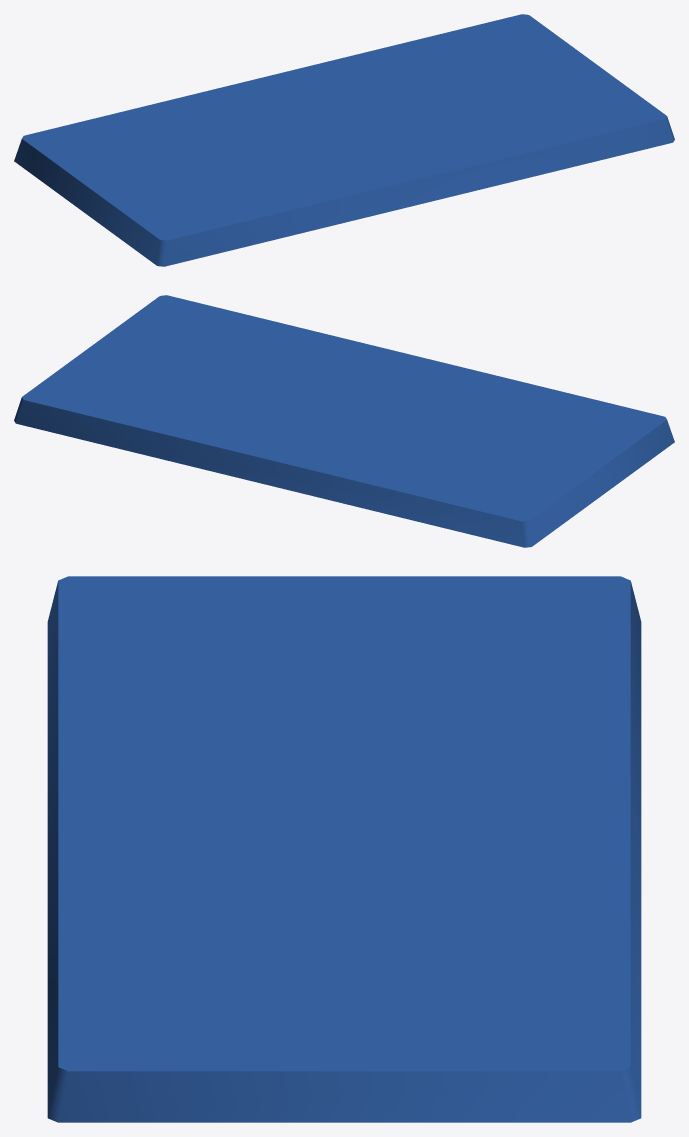
The model's file is mcp_sewer_grate_01_LOD_0.FBX.
The picture shows the model from 3 angles, top to bottom: view 1: azimuth 30°, elevation 25°; view 2: azimuth 150°, elevation 25°; view 3: azimuth 270°, elevation 25°; orthographic projection. The views are drawn at different scales.
Visible parts, largest first — view 1: mcp_sewer_grate_01; view 2: mcp_sewer_grate_01; view 3: mcp_sewer_grate_01.
Boxes of the visible parts, left/top/right/bottom form: mcp_sewer_grate_01: left=14, top=14, right=674, bottom=266; mcp_sewer_grate_01: left=14, top=295, right=674, bottom=547; mcp_sewer_grate_01: left=47, top=576, right=641, bottom=1122.
Bounding box in the file's own units: 104 × 4.44 × 51.68.
